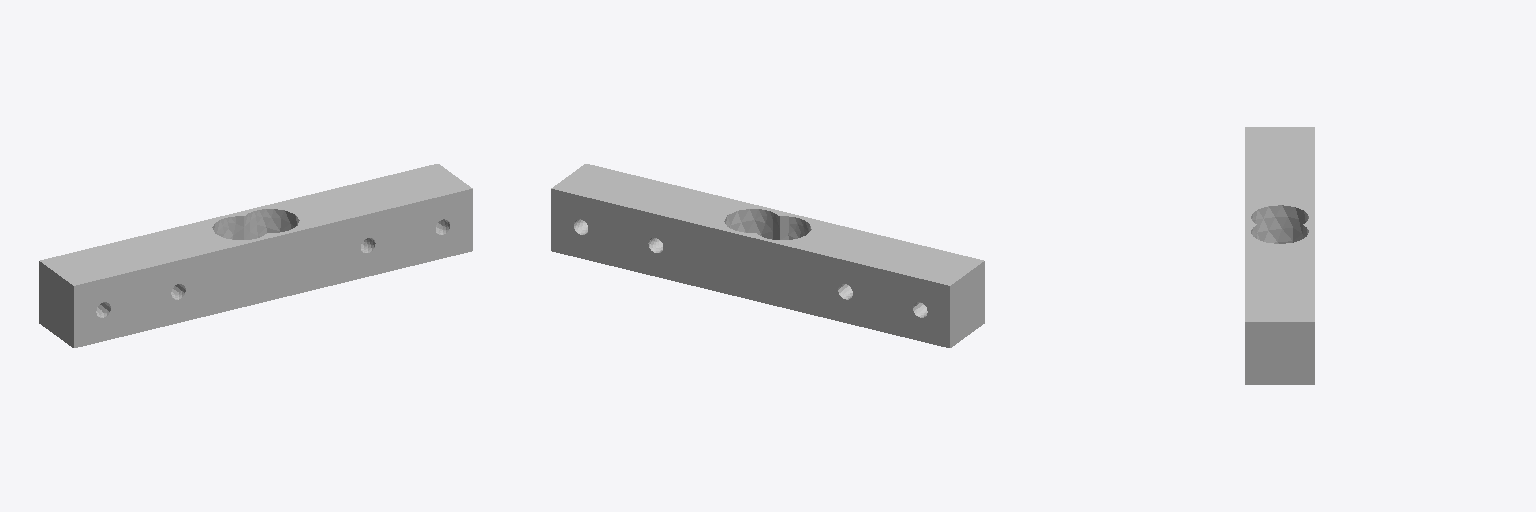
File: load_cell.obj
3 renders of one model, left to right at view 1: azimuth 30°, elevation 25°; view 2: azimuth 150°, elevation 25°; view 3: azimuth 270°, elevation 25°, orthographic.
Bounding box in the file's own units: 80 × 12 × 12.